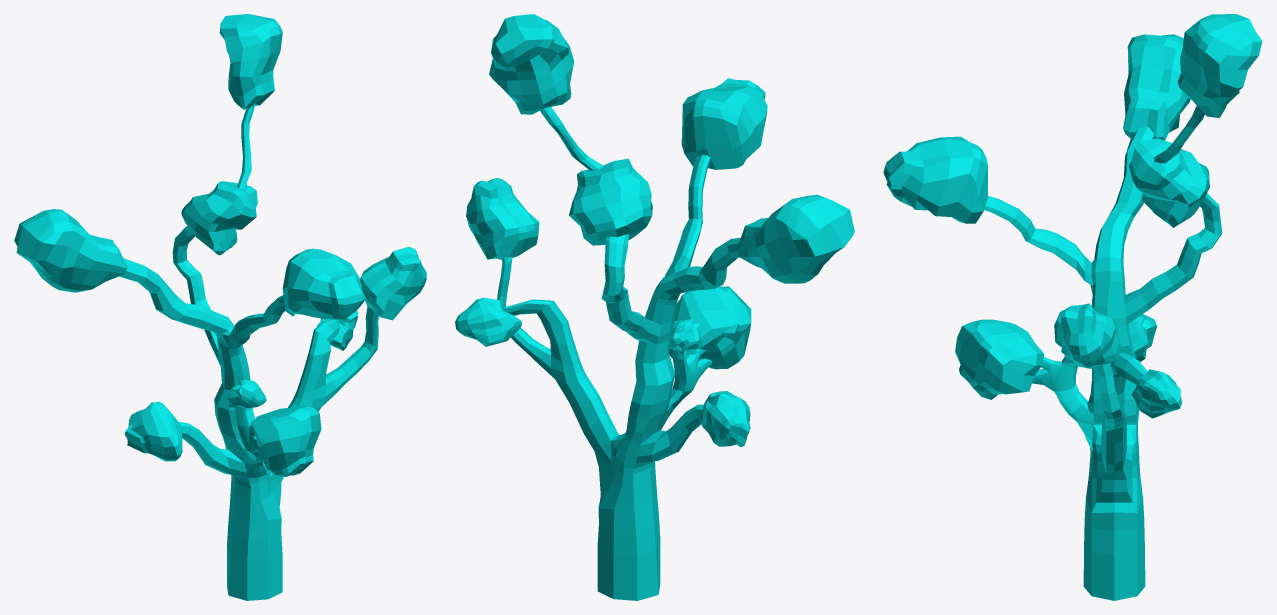
Rendered from Tree_Desert_01.fbx.
3 renders of one model, left to right at view 1: azimuth 30°, elevation 25°; view 2: azimuth 150°, elevation 25°; view 3: azimuth 270°, elevation 25°, orthographic. The views are drawn at different scales.
Visible parts, largest first — view 1: Tree_Desert_01; view 2: Tree_Desert_01; view 3: Tree_Desert_01.
Part boxes in pixels (left/top/right/bottom): Tree_Desert_01: left=14, top=14, right=426, bottom=600; Tree_Desert_01: left=455, top=14, right=854, bottom=600; Tree_Desert_01: left=883, top=14, right=1262, bottom=600.
Size of the model in its own units: 813 by 1099 by 642.
